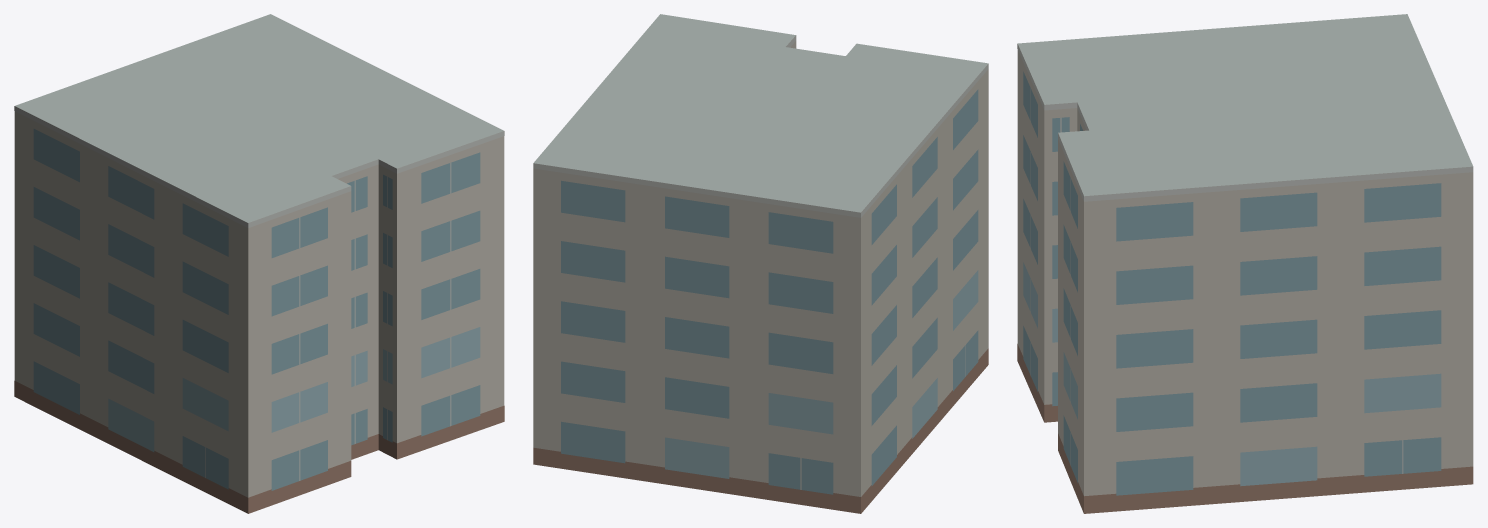
The model's file is survey-upis-32743543.glb.
3 renders of one model, left to right at view 1: azimuth 30°, elevation 25°; view 2: azimuth 150°, elevation 25°; view 3: azimuth 270°, elevation 25°, orthographic. The views are drawn at different scales.
Parts seen in each view (by area): view 1: survey-upis-32743543.tmp; view 2: survey-upis-32743543.tmp; view 3: survey-upis-32743543.tmp.
Part boxes in pixels (box(x1,y1,x2,y2)): survey-upis-32743543.tmp: box(14, 14, 504, 513); survey-upis-32743543.tmp: box(533, 14, 988, 513); survey-upis-32743543.tmp: box(1017, 14, 1473, 513).
Bounding box in the file's own units: 17.11 × 13.9 × 18.09.
